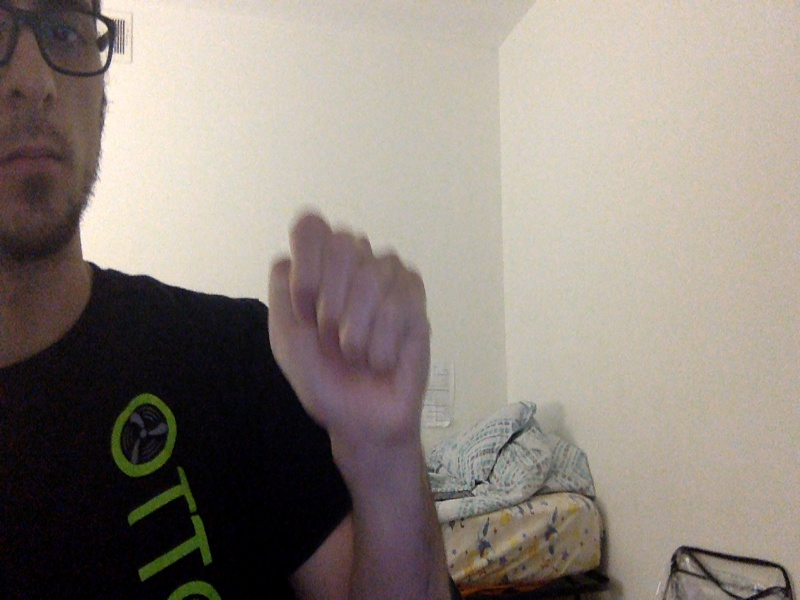0-hand: (267, 214, 433, 432)
